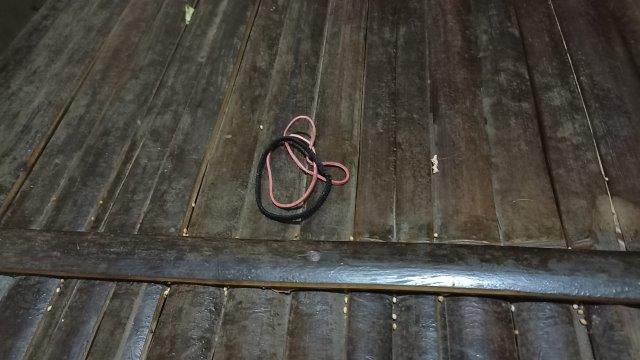karet: (255, 115, 350, 223)
